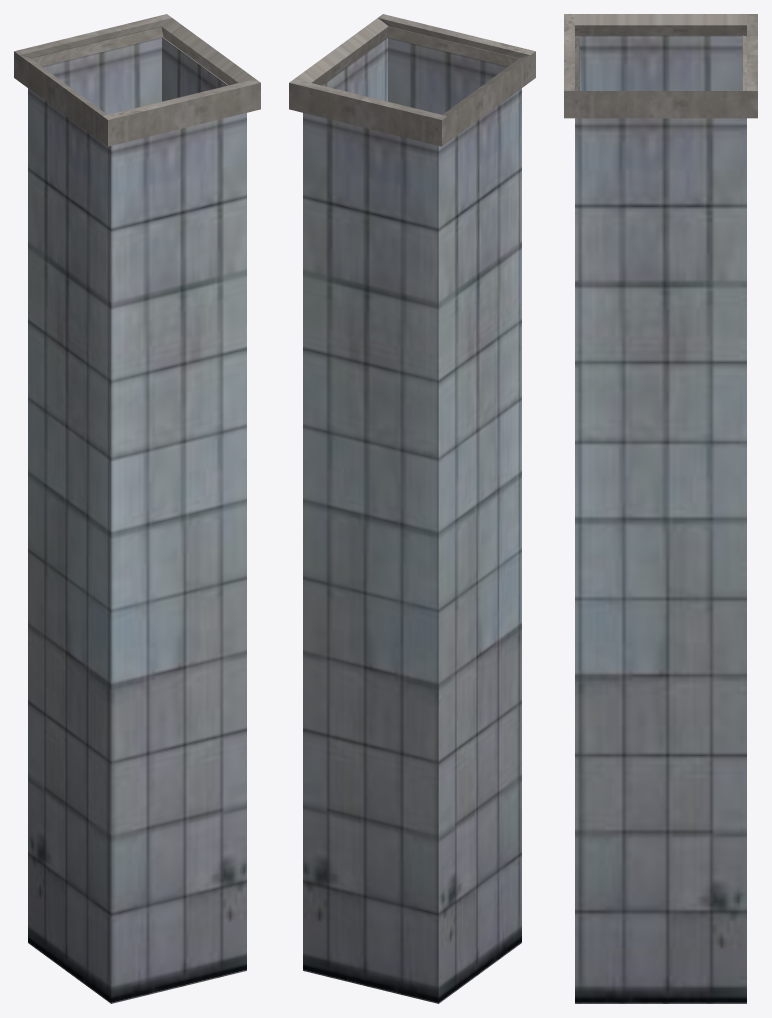
Rendered from SmallColon.fbx.
The picture shows the model from 3 angles, left to right: view 1: azimuth 30°, elevation 25°; view 2: azimuth 150°, elevation 25°; view 3: azimuth 270°, elevation 25°; orthographic projection. The views are drawn at different scales.
Visible parts, largest first — view 1: St_03.079; view 2: St_03.079; view 3: St_03.079.
Part boxes in pixels (x1,y1,x2,y2): St_03.079: [14, 14, 260, 1003]; St_03.079: [289, 14, 535, 1003]; St_03.079: [564, 14, 757, 1003].
Bounding box in the file's own units: 87.3 × 485 × 92.94.
